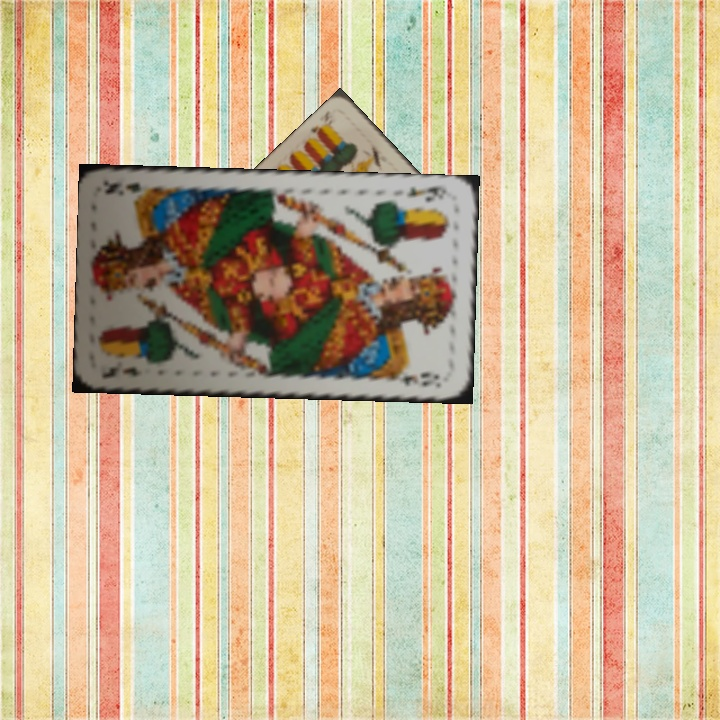E10: (306, 106, 334, 139)
EK: (402, 182, 449, 205), (98, 362, 144, 382)
